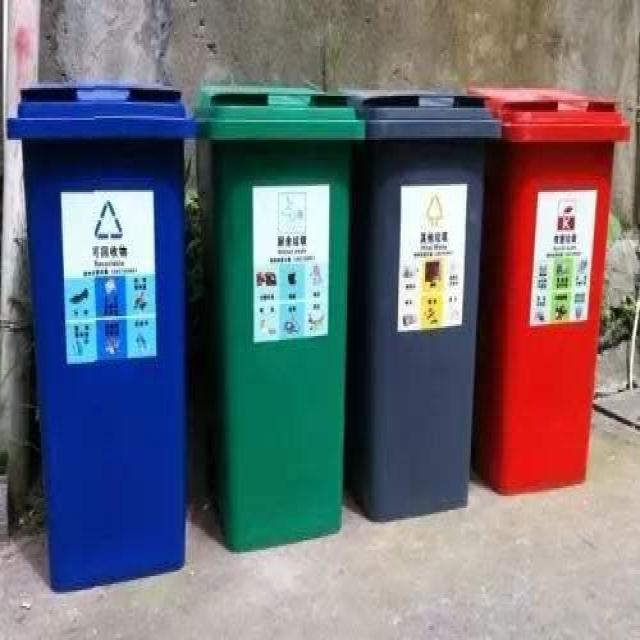garbage_bin: (4, 80, 194, 592), (193, 80, 366, 550), (466, 80, 630, 494), (343, 86, 498, 524)
